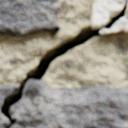brick: (0, 0, 59, 37)
broken_brick: (0, 80, 127, 127), (90, 0, 127, 35), (0, 85, 18, 107)
crack: (0, 2, 126, 126)
